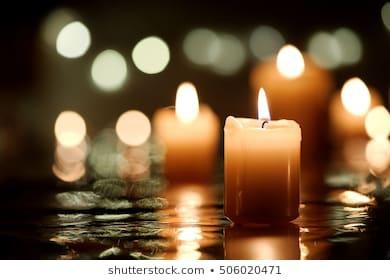fire: (173, 79, 198, 125), (254, 84, 272, 123)
